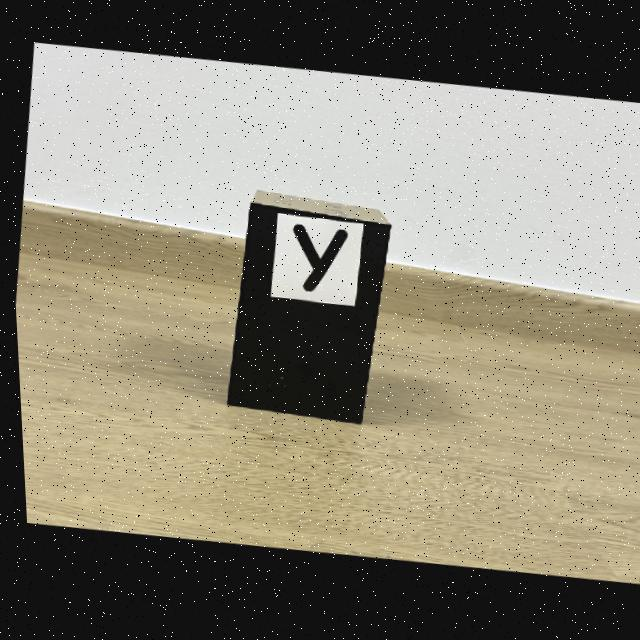Y: (290, 225, 345, 293)
